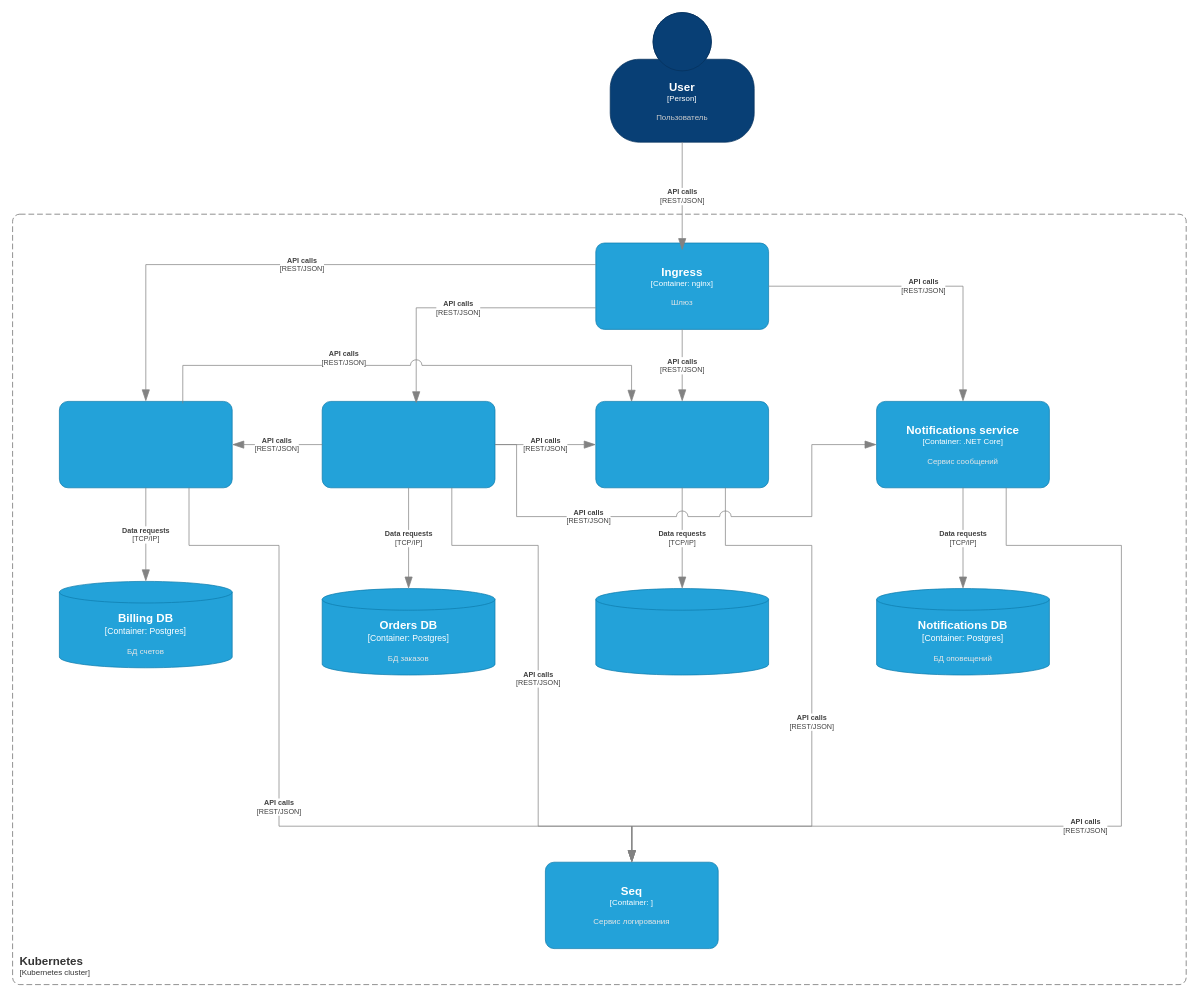
Some shapes in this 1199 by 997 pixel diagram are drawn without their labels. Each missing label, with the box of its shape:
Billing service [Container: .NET Core] Сервис работы со счетами: (59, 401, 232, 488)
Orders service [Container: .NET Core] Сервис работы с заказами: (321, 401, 495, 488)
Users DB [Container: Postgres] БД пользователей: (595, 588, 769, 675)
Users service [Container: .NET Core] Сервис работы с пользователями: (595, 401, 769, 488)
